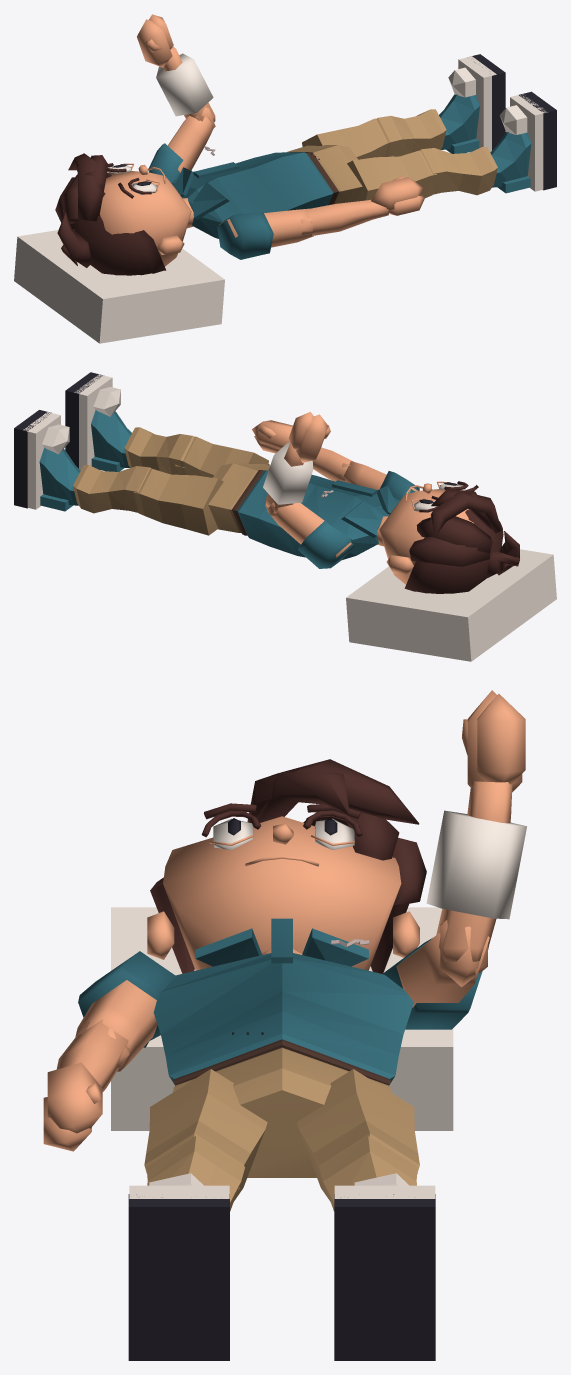
The model's file is npc.shelter-survivor.lying.lod2.glb.
3 renders of one model, top to bottom at view 1: azimuth 30°, elevation 25°; view 2: azimuth 150°, elevation 25°; view 3: azimuth 270°, elevation 25°, orthographic. The views are drawn at different scales.
Visible parts, largest first — view 1: restCushion, head, torso, footR, footL, armR, shinR, foreArmL, legR, shinL, armL, hip (+4 smaller); view 2: restCushion, head, torso, footL, footR, legL, armL, shinL, hip, shinR, foreArmL, legR (+4 smaller); view 3: head, torso, footL, footR, foreArmL, restCushion, hip, legL, legR, armR, armL, handL (+4 smaller).
Part boxes in pixels (left/top/right/bottom): restCushion: left=14, top=230, right=224, bottom=343; head: left=55, top=153, right=193, bottom=275; torso: left=171, top=146, right=333, bottom=238; footR: left=490, top=91, right=556, bottom=193; footL: left=439, top=54, right=505, bottom=153; armR: left=217, top=208, right=313, bottom=259; shinR: left=419, top=147, right=497, bottom=195; foreArmL: left=156, top=46, right=215, bottom=128; legR: left=347, top=150, right=436, bottom=201; shinL: left=376, top=109, right=446, bottom=156; armL: left=148, top=115, right=213, bottom=182; hip: left=287, top=145, right=362, bottom=204; restCushion: left=346, top=549, right=556, bottom=661; head: left=377, top=481, right=519, bottom=593; torso: left=237, top=470, right=399, bottom=559; footL: left=14, top=410, right=80, bottom=511; footR: left=65, top=372, right=131, bottom=471; legL: left=134, top=469, right=223, bottom=535; armL: left=267, top=502, right=353, bottom=568; shinL: left=73, top=465, right=151, bottom=513; hip: left=208, top=463, right=269, bottom=535; shinR: left=124, top=427, right=194, bottom=474; foreArmL: left=263, top=442, right=312, bottom=516; legR: left=182, top=436, right=268, bottom=477; head: left=147, top=759, right=426, bottom=973; torso: left=153, top=918, right=413, bottom=1084; footL: left=334, top=1173, right=435, bottom=1360; footR: left=128, top=1173, right=229, bottom=1360; foreArmL: left=426, top=781, right=526, bottom=987; restCushion: left=111, top=907, right=453, bottom=1130; hip: left=173, top=1032, right=391, bottom=1177; legL: left=296, top=1069, right=419, bottom=1201; legR: left=144, top=1069, right=267, bottom=1200; armR: left=75, top=951, right=176, bottom=1071; armL: left=383, top=933, right=489, bottom=1029; handL: left=462, top=690, right=525, bottom=792.
Size of the model in its own units: 1.81 by 0.8654 by 0.8164.
